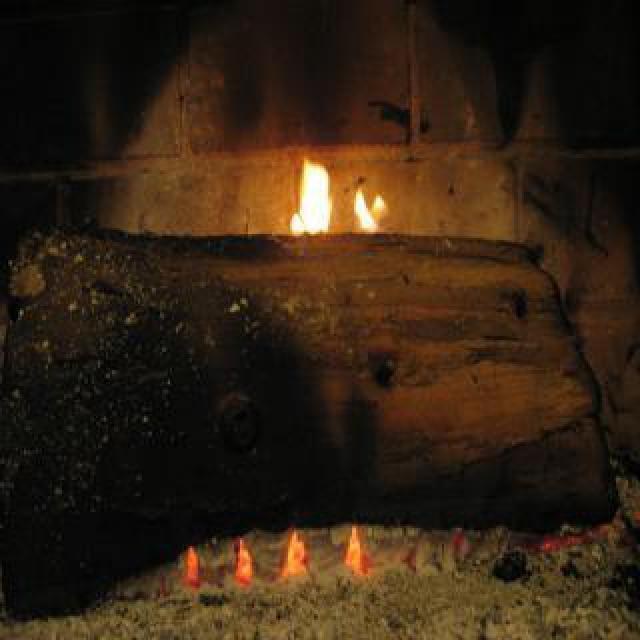Fire: (288, 144, 390, 262)
